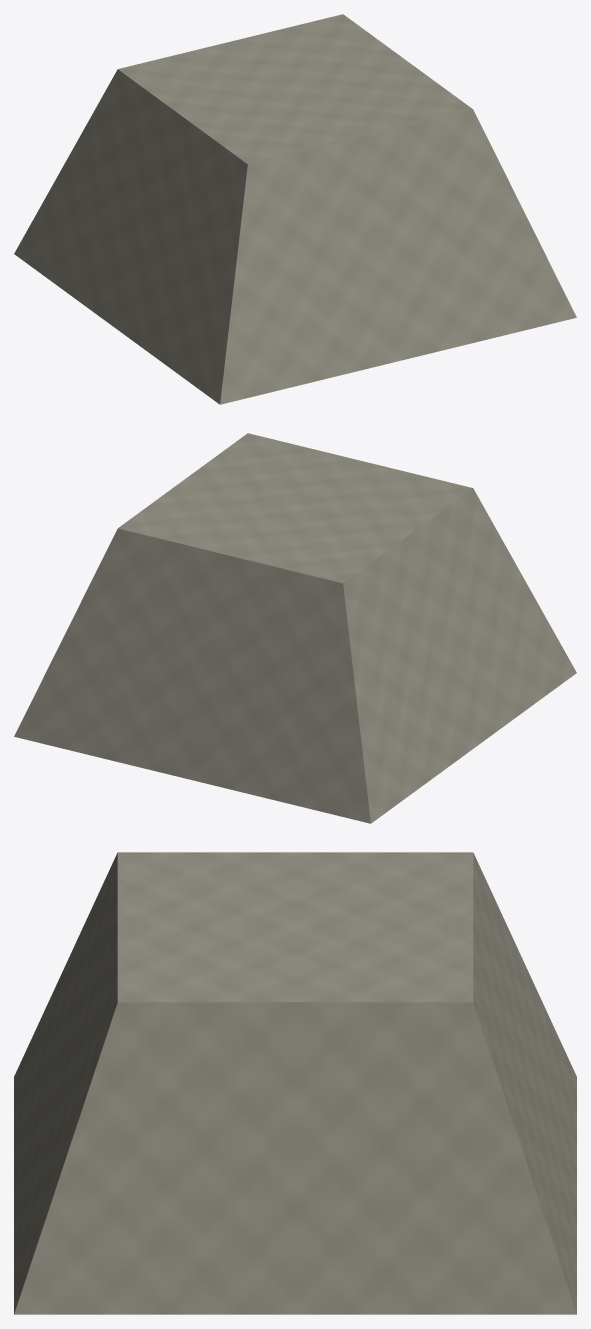
File: MRP_Umpak_Concrete.fbx
3 views of the same model, one above another, from view 1: azimuth 30°, elevation 25°; view 2: azimuth 150°, elevation 25°; view 3: azimuth 270°, elevation 25° (orthographic). The views are drawn at different scales.
Parts seen in each view (by area): view 1: Body; view 2: Body; view 3: Body.
Part boxes in pixels (<box>): Body: <box>14,14,576,404</box>; Body: <box>14,433,576,823</box>; Body: <box>14,852,576,1314</box>.
Size of the model in its own units: 0.38 by 0.2 by 0.38.
